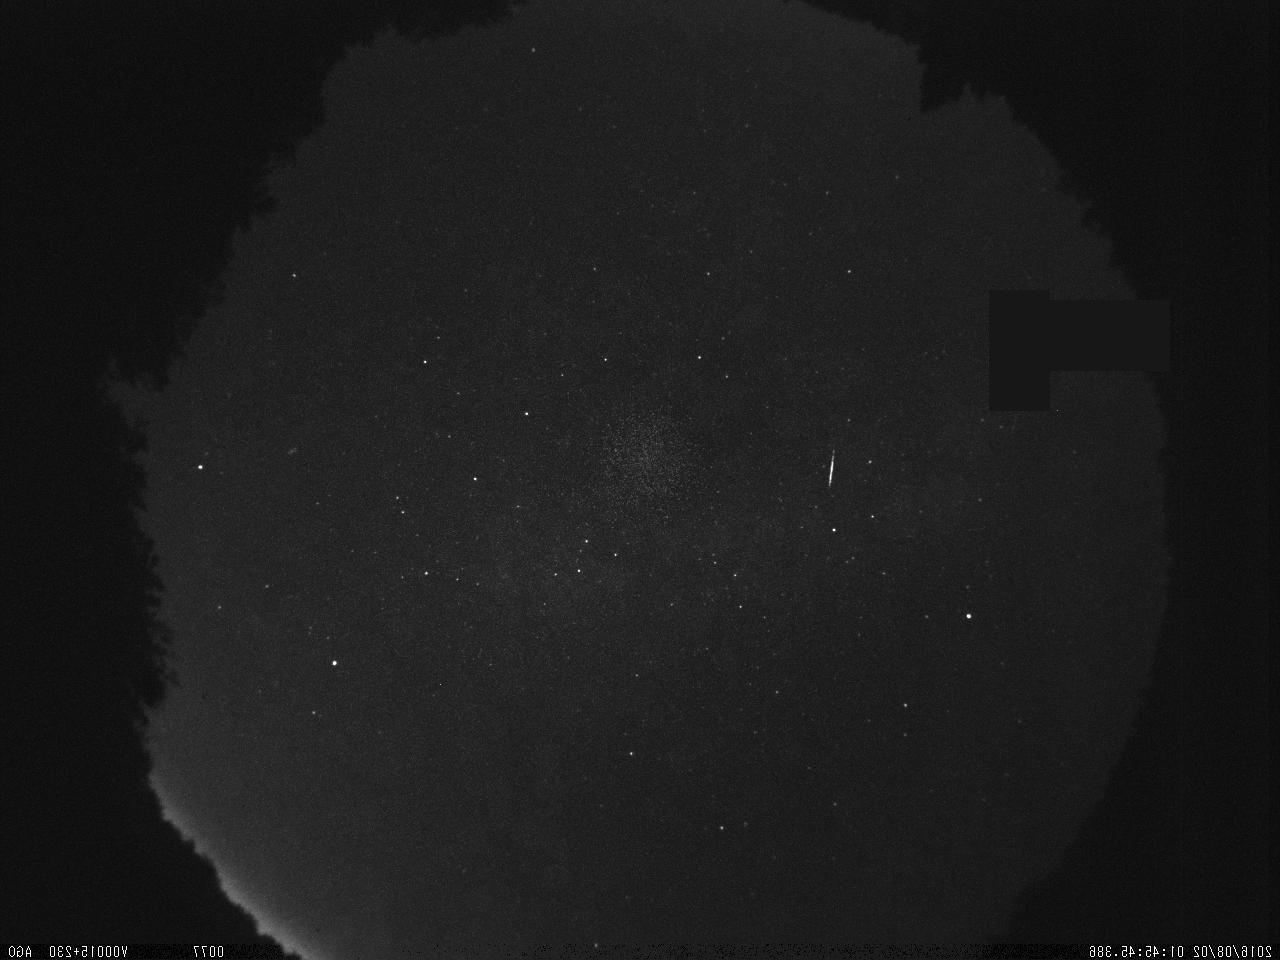meteor: (814, 436, 855, 490)
